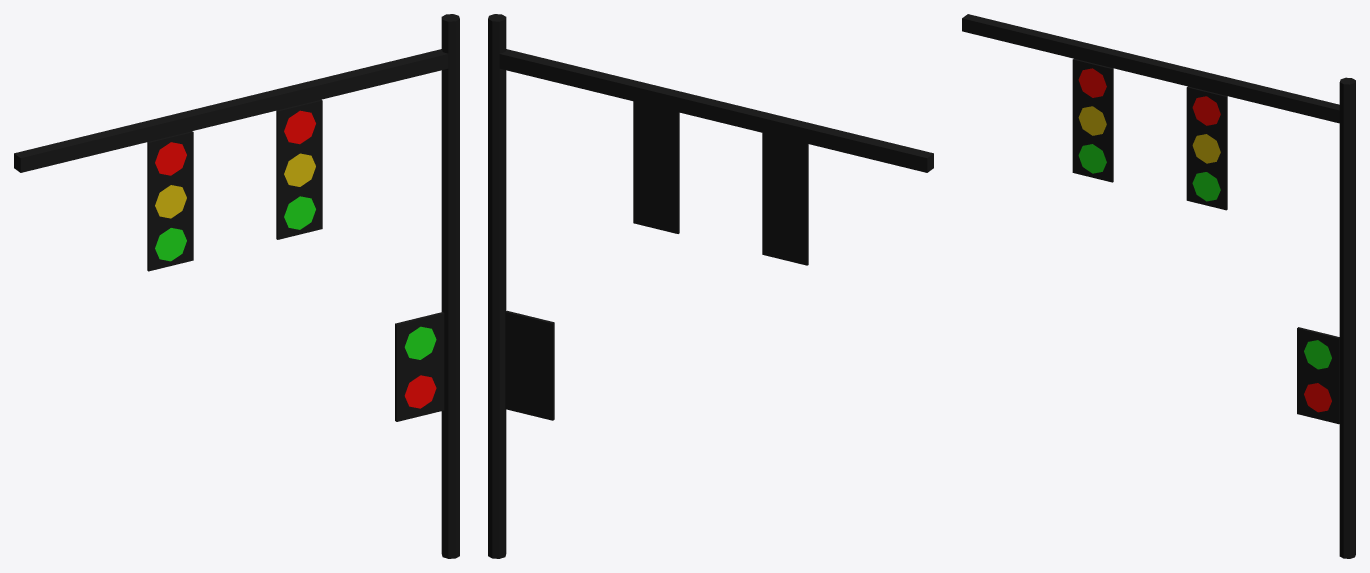
File: CargoTrafficLightModel.fbx
The picture shows the model from 3 angles, left to right: view 1: azimuth 30°, elevation 25°; view 2: azimuth 150°, elevation 25°; view 3: azimuth 330°, elevation 25°; orthographic projection. The views are drawn at different scales.
Parts seen in each view (by area): view 1: Circle; view 2: Circle; view 3: Circle.
Part boxes in pixels (box(x1,y1,x2,y2)): Circle: box(14, 14, 459, 558); Circle: box(488, 14, 933, 558); Circle: box(962, 14, 1355, 558).
Size of the model in its own units: 540 by 627 by 20.
